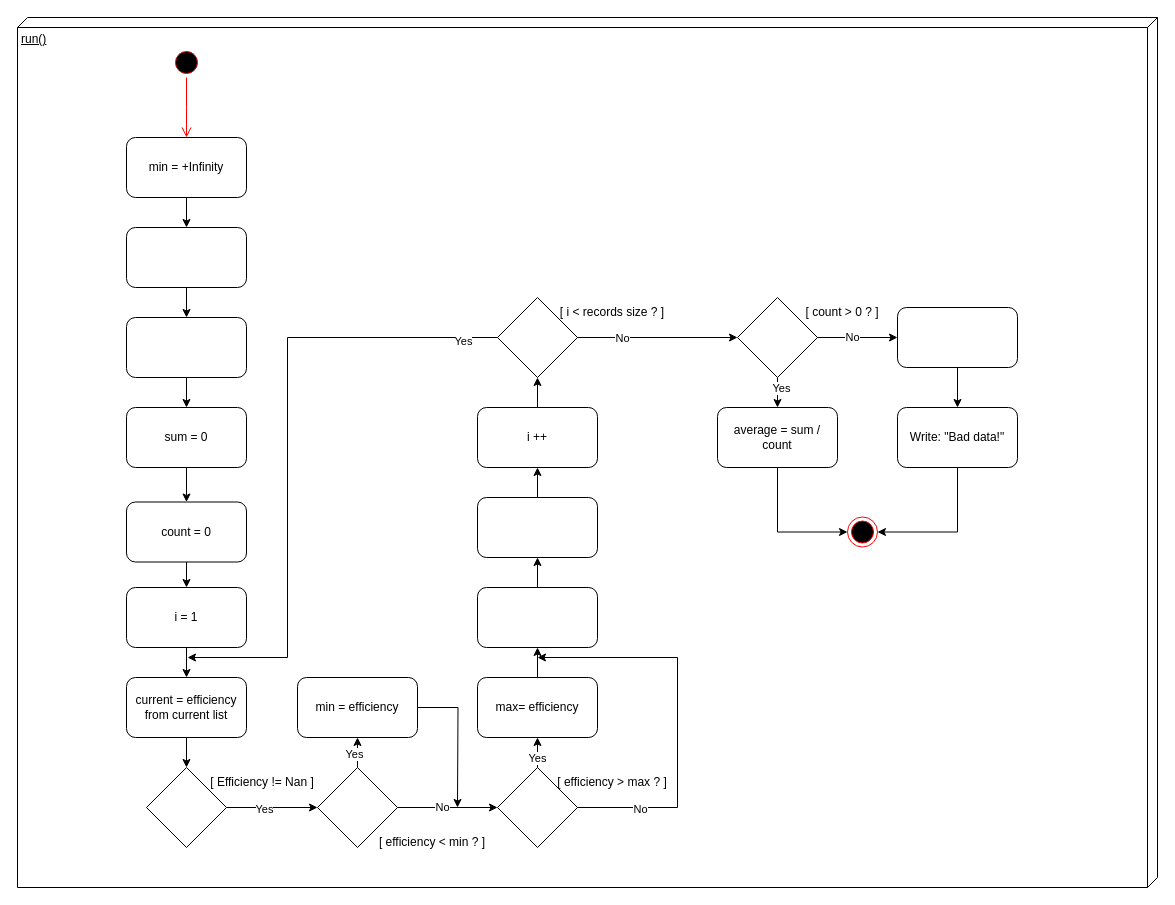
Some shapes in this 1175 by 905 pixel diagram are drawn without their labels. Here are the shapes that lost their labels. From the top down, the centre of each, then its label:
(x=186, y=257): max = -Infinity
(x=186, y=347): average = 0
(x=957, y=337): average = Nan
(x=537, y=527): sum += efficiency
(x=537, y=617): count ++
